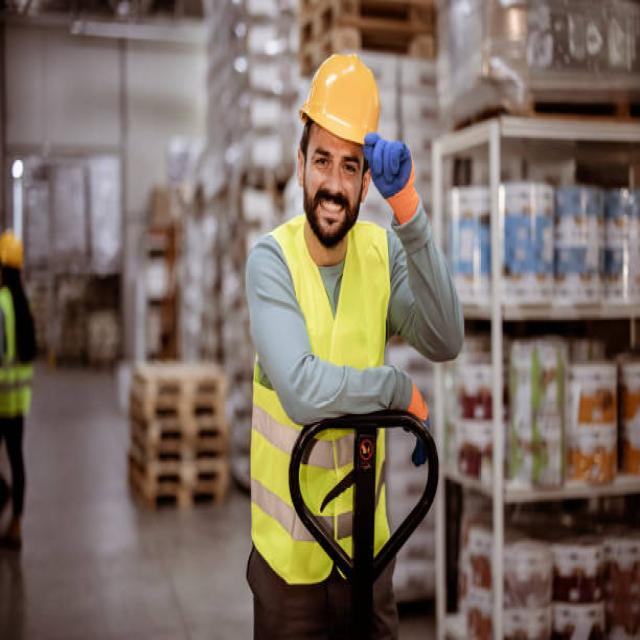Gloves: (363, 130, 423, 229), (391, 358, 437, 472)
Vest: (247, 212, 396, 590), (0, 284, 34, 416)
helmet: (297, 52, 384, 146), (0, 228, 23, 268)
person: (242, 52, 466, 640), (0, 225, 38, 552)
